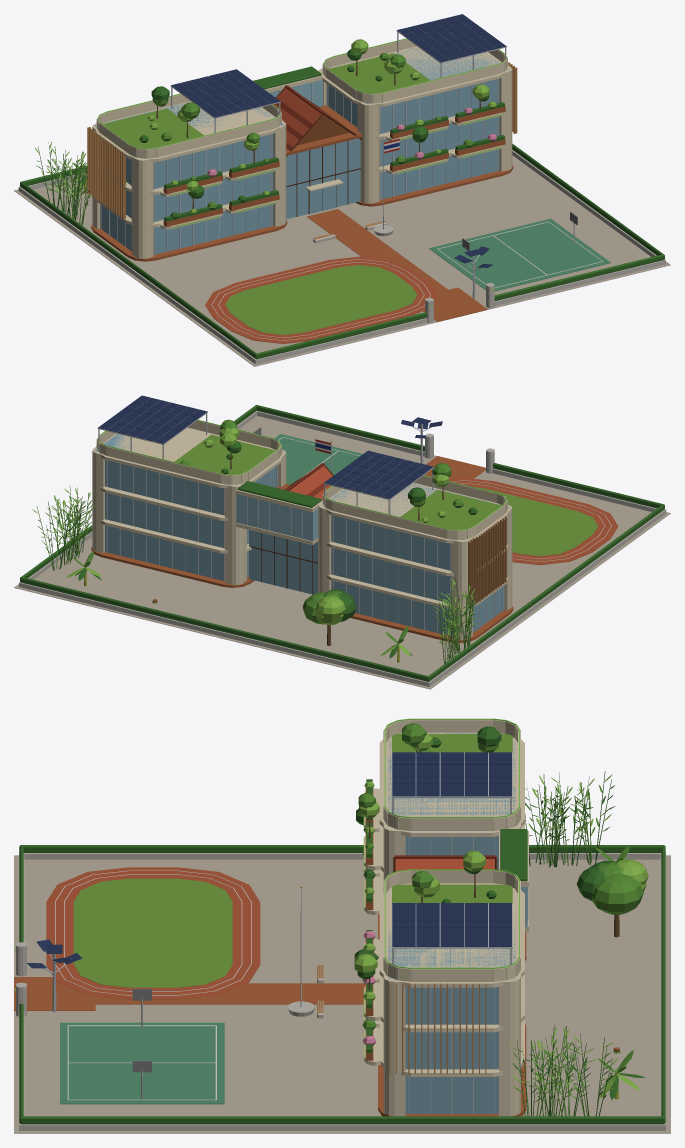
The model's file is school.glb.
The picture shows the model from 3 angles, top to bottom: view 1: azimuth 30°, elevation 25°; view 2: azimuth 150°, elevation 25°; view 3: azimuth 270°, elevation 25°; orthographic projection. The views are drawn at different scales.
Parts seen in each view (by area): view 1: body, windows; view 2: body, windows; view 3: body, windows.
Part boxes in pixels (x1,y1,x2,y2): body: [14, 14, 670, 366]; windows: [97, 38, 507, 305]; body: [14, 395, 670, 689]; windows: [97, 419, 507, 530]; body: [14, 719, 670, 1133]; windows: [15, 718, 519, 1060].
Bounding box in the file's own units: 48.98 × 15.31 × 47.9.
